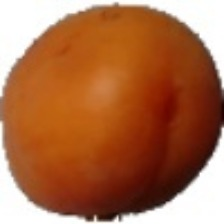apricot: (19, 13, 203, 183)
